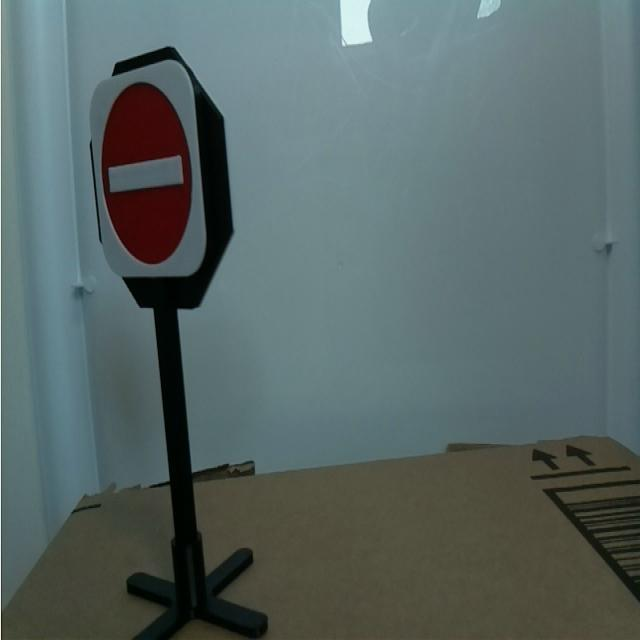sign_noentry: (88, 55, 211, 288)
